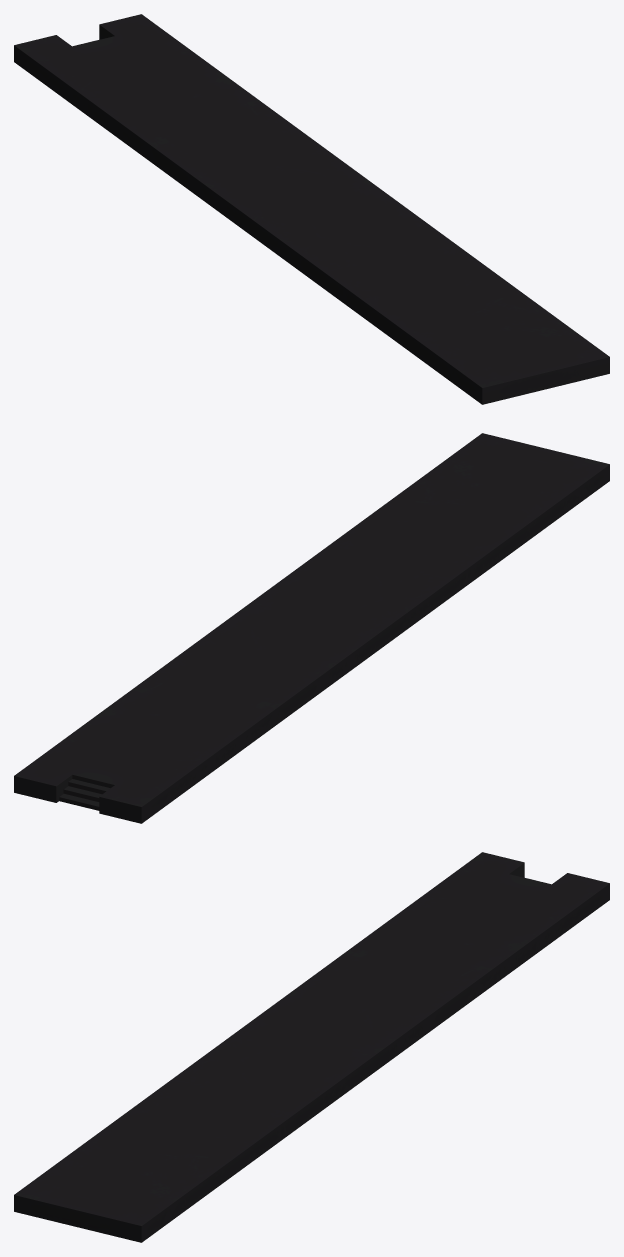
Rendered from New_Building_Base.fbx.
The picture shows the model from 3 angles, top to bottom: view 1: azimuth 30°, elevation 25°; view 2: azimuth 150°, elevation 25°; view 3: azimuth 330°, elevation 25°; orthographic projection.
Visible parts, largest first — view 1: polySurface169; view 2: polySurface169, polySurface168; view 3: polySurface169.
Part boxes in pixels (left/top/right/bottom): polySurface169: left=14, top=14, right=609, bottom=404; polySurface169: left=14, top=433, right=609, bottom=823; polySurface168: left=59, top=779, right=110, bottom=810; polySurface169: left=14, top=852, right=609, bottom=1242.
Bounding box in the file's own units: 647 × 82 × 4109.
